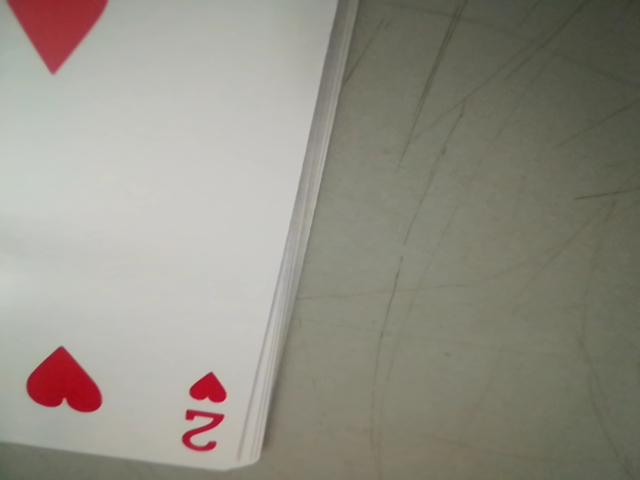hx 2: (175, 385, 239, 459)
